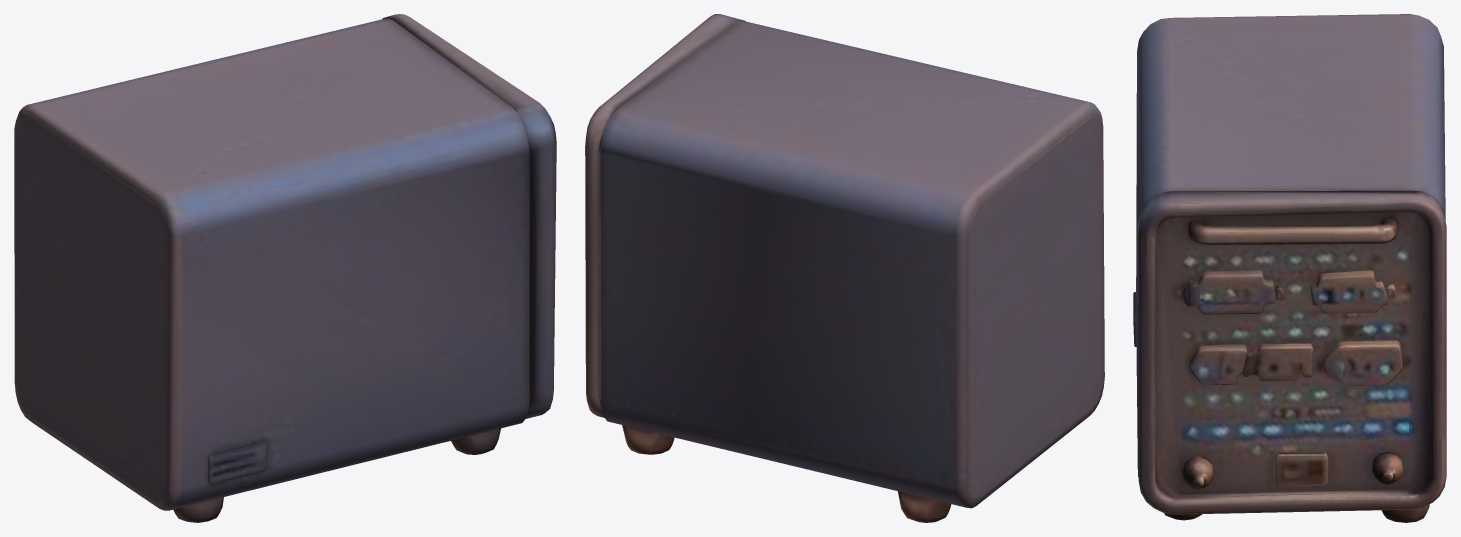
Rendered from desk-dev.glb.
3 renders of one model, left to right at view 1: azimuth 30°, elevation 25°; view 2: azimuth 150°, elevation 25°; view 3: azimuth 270°, elevation 25°, orthographic.
Visible parts, largest first — view 1: tripo_node_3eb3ec52-c767-4d21-8f8d-322ac3053cce; view 2: tripo_node_3eb3ec52-c767-4d21-8f8d-322ac3053cce; view 3: tripo_node_3eb3ec52-c767-4d21-8f8d-322ac3053cce.
Part boxes in pixels (x1=…): tripo_node_3eb3ec52-c767-4d21-8f8d-322ac3053cce: x1=14, y1=14, x2=556, y2=522; tripo_node_3eb3ec52-c767-4d21-8f8d-322ac3053cce: x1=585, y1=14, x2=1104, y2=522; tripo_node_3eb3ec52-c767-4d21-8f8d-322ac3053cce: x1=1133, y1=14, x2=1446, y2=522.
Bounding box in the file's own units: 0.998 × 0.8027 × 0.666.
1 material, 1 textured.
